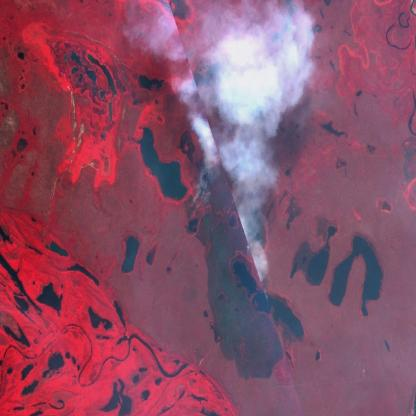fire: (182, 161, 254, 262)
